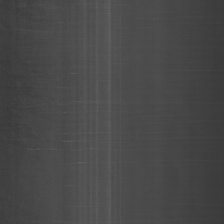waist_folding: (54, 13, 126, 224)
